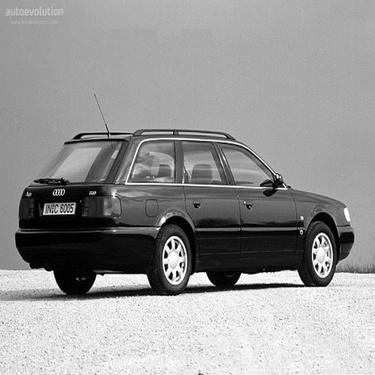car: (17, 103, 364, 298)
